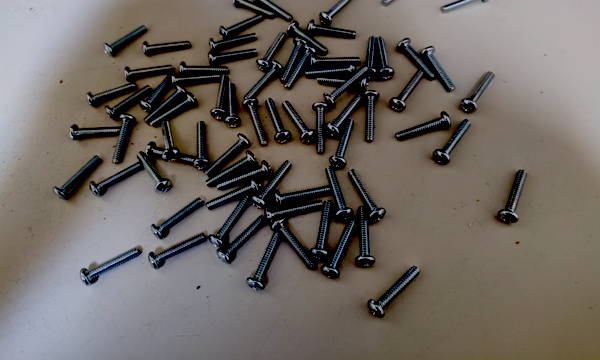longscrew: (367, 271, 423, 316), (149, 195, 203, 240), (217, 218, 268, 262), (81, 246, 138, 284), (275, 217, 315, 270), (92, 156, 142, 198), (151, 231, 206, 268), (210, 198, 252, 246), (250, 159, 291, 208), (324, 222, 359, 279), (250, 233, 285, 290), (58, 151, 96, 201), (350, 169, 385, 220), (204, 136, 247, 176), (151, 93, 202, 126), (311, 201, 341, 257), (326, 66, 370, 104), (206, 180, 262, 209), (134, 151, 172, 193), (205, 155, 256, 186), (244, 63, 285, 101), (323, 169, 354, 219), (274, 180, 331, 207), (501, 172, 531, 223), (422, 47, 456, 92), (398, 38, 436, 78), (102, 22, 146, 56), (436, 122, 471, 164), (396, 112, 448, 140), (144, 88, 186, 122), (327, 96, 363, 135), (107, 83, 148, 117), (391, 72, 427, 110), (284, 102, 317, 143), (143, 144, 204, 166), (263, 101, 296, 141), (142, 69, 175, 109), (286, 46, 318, 87), (216, 166, 273, 189), (267, 198, 321, 222), (289, 23, 329, 55), (463, 74, 497, 111), (110, 115, 136, 163), (330, 122, 357, 165), (281, 40, 309, 81), (244, 100, 267, 146), (357, 204, 374, 266), (259, 31, 287, 68), (86, 81, 133, 103), (220, 13, 264, 36), (208, 47, 258, 66), (207, 31, 255, 50), (320, 0, 356, 24), (212, 73, 230, 121), (303, 62, 356, 78), (143, 38, 190, 56), (123, 63, 174, 79), (307, 22, 356, 38), (363, 91, 378, 142), (163, 118, 178, 168), (170, 72, 221, 86), (255, 0, 294, 18), (317, 102, 330, 154), (236, 0, 272, 17), (308, 54, 359, 66), (363, 37, 378, 77), (227, 82, 239, 131), (196, 122, 207, 173), (378, 38, 392, 78), (444, 0, 491, 11), (316, 75, 369, 84), (178, 65, 229, 74), (383, 0, 422, 4)
